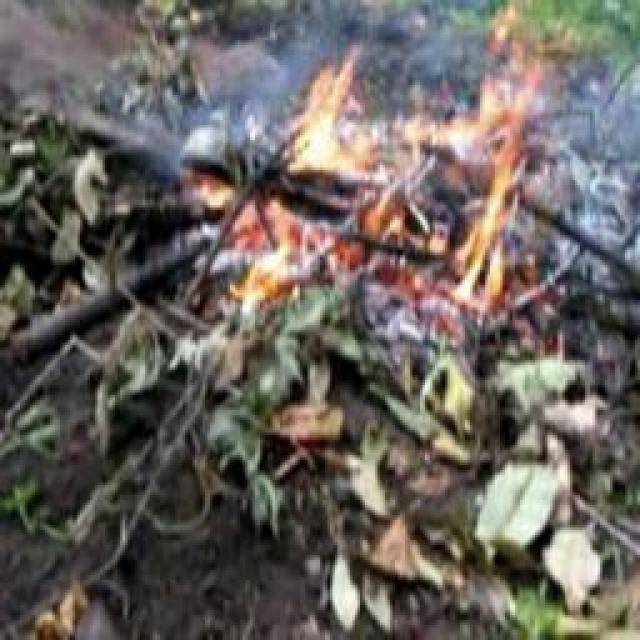Fire: (226, 39, 541, 301)
